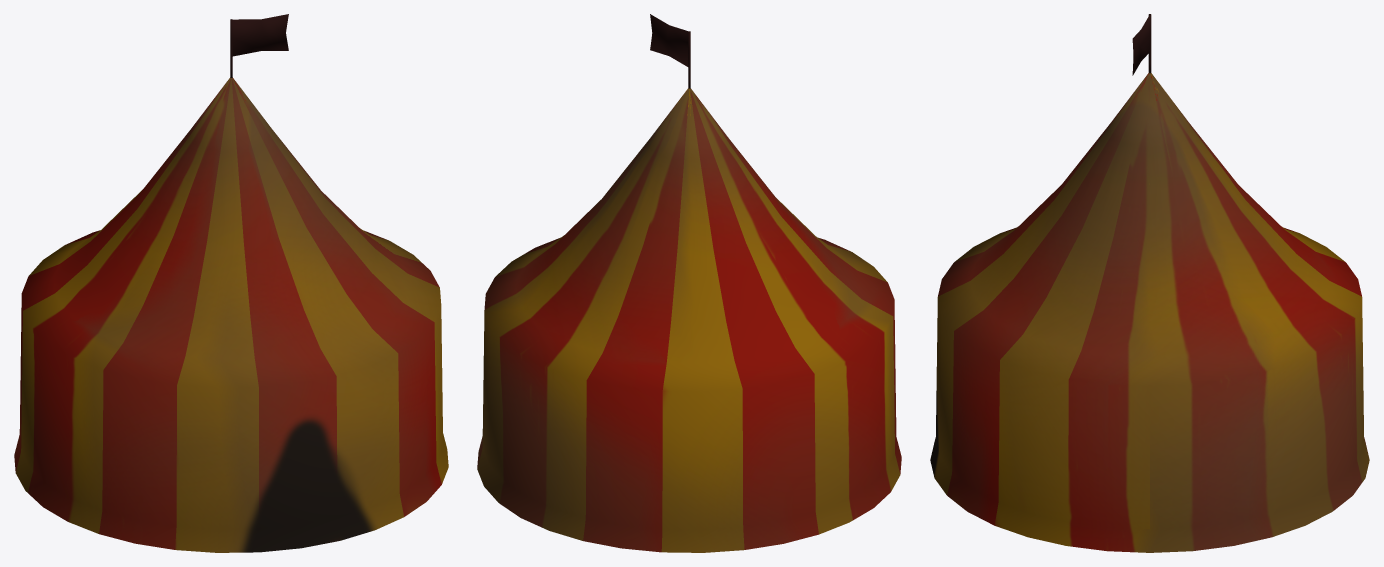
Rendered from mini_tent.fbx.
3 renders of one model, left to right at view 1: azimuth 30°, elevation 25°; view 2: azimuth 150°, elevation 25°; view 3: azimuth 270°, elevation 25°, orthographic. The views are drawn at different scales.
Visible parts, largest first — view 1: tent; view 2: tent; view 3: tent.
Part boxes in pixels (box(x1,y1,x2,y2)): tent: box(14, 14, 448, 552); tent: box(477, 14, 901, 552); tent: box(930, 14, 1369, 552).
Bounding box in the file's own units: 3.75 × 4.19 × 3.75.
2 materials, 1 textured.
